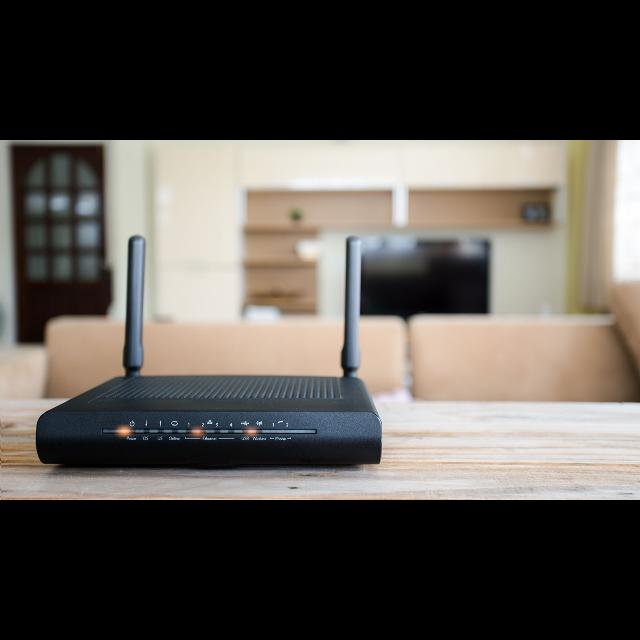Router: (35, 236, 384, 470)
